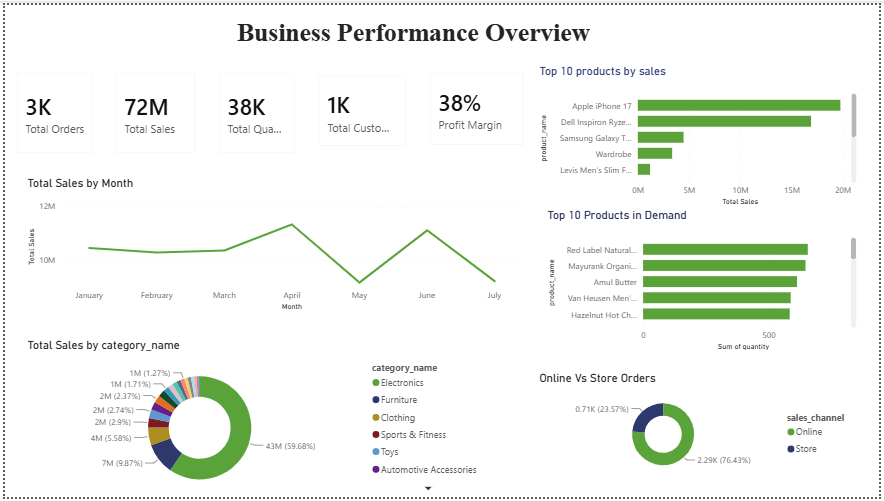

Layout of this report page (visuals, bound fields, positions):
{"tool":"powerbi","page":{"name":"Page 1","canvas":[1280,720],"ordinal":0},"visuals":[{"type":"cardVisual","fields":{"Data":["retail_sales category.Total Sales"]},"box":[145,81.2,150,152.5],"z":0},{"type":"cardVisual","fields":{"Data":["retail_sales category.Total Orders"]},"box":[0,81.2,145,152.5],"z":1000},{"type":"cardVisual","fields":{"Data":["retail_sales category.Total Customers"]},"box":[441.2,86.2,162.5,137.5],"z":2000},{"type":"cardVisual","fields":{"Data":["retail_sales category.Profit Margin %"]},"box":[603.8,81.2,172.5,140],"z":3000},{"type":"lineChart","fields":{"Category":["retail_sales orders.order_date.Variation.Date Hierarchy.Month"],"Y":["retail_sales category.Total Sales"]},"box":[27.8,250.2,733.2,202],"z":4000},{"type":"textbox","box":[165.4,13.2,864.9,57.1],"z":5000},{"type":"barChart","title":"Top 10 products by sales","fields":{"Category":["retail_sales product.product_name"],"Y":["retail_sales category.Total Sales"]},"box":[777.1,86.3,474.1,212.2],"z":6000},{"type":"donutChart","fields":{"Category":["retail_sales category.category_name"],"Y":["retail_sales category.Total Sales"]},"box":[27.1,487.1,677.1,232.9],"z":7000},{"type":"donutChart","title":"Online Vs Store Orders","fields":{"Category":["retail_sales orders.sales_channel"],"Y":["CountNonNull(retail_sales orders.order_id)"]},"box":[777.1,535.6,474.1,155.1],"z":8000},{"type":"cardVisual","fields":{"Data":["retail_sales category.Total Quantity Sold"]},"box":[296.2,81.2,145,152.5],"z":9000},{"type":"barChart","title":"Top 10 Products in Demand","fields":{"Category":["retail_sales product.product_name"],"Y":["Sum(retail_sales order_items.quantity)"]},"box":[789.5,297.3,461.9,213.3],"z":10000}]}

Visuals, with their boxes in screenshot pixels (x1, y1, x2, y2), scaled from the page's 1280x720 canvas onto the 884x501 screenshot:
cardVisual - retail_sales category.Total Sales: left=100, top=57, right=204, bottom=163
cardVisual - retail_sales category.Total Orders: left=0, top=57, right=100, bottom=163
cardVisual - retail_sales category.Total Customers: left=305, top=60, right=417, bottom=156
cardVisual - retail_sales category.Profit Margin %: left=417, top=57, right=536, bottom=154
lineChart - retail_sales orders.order_date.Variation.Date Hierarchy.Month x retail_sales category.Total Sales: left=19, top=174, right=526, bottom=315
textbox: left=114, top=9, right=712, bottom=49
"Top 10 products by sales" barChart: left=537, top=60, right=864, bottom=208
donutChart - retail_sales category.category_name x retail_sales category.Total Sales: left=19, top=339, right=486, bottom=500
"Online Vs Store Orders" donutChart: left=537, top=373, right=864, bottom=481
cardVisual - retail_sales category.Total Quantity Sold: left=205, top=57, right=305, bottom=163
"Top 10 Products in Demand" barChart: left=545, top=207, right=864, bottom=355
